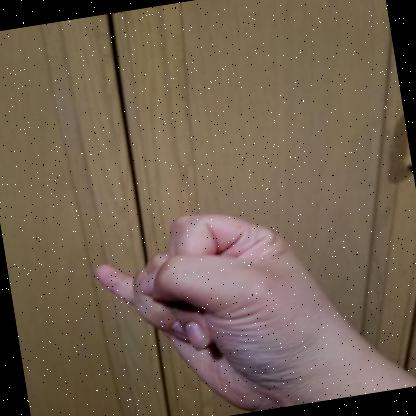J: (94, 213, 348, 411)
